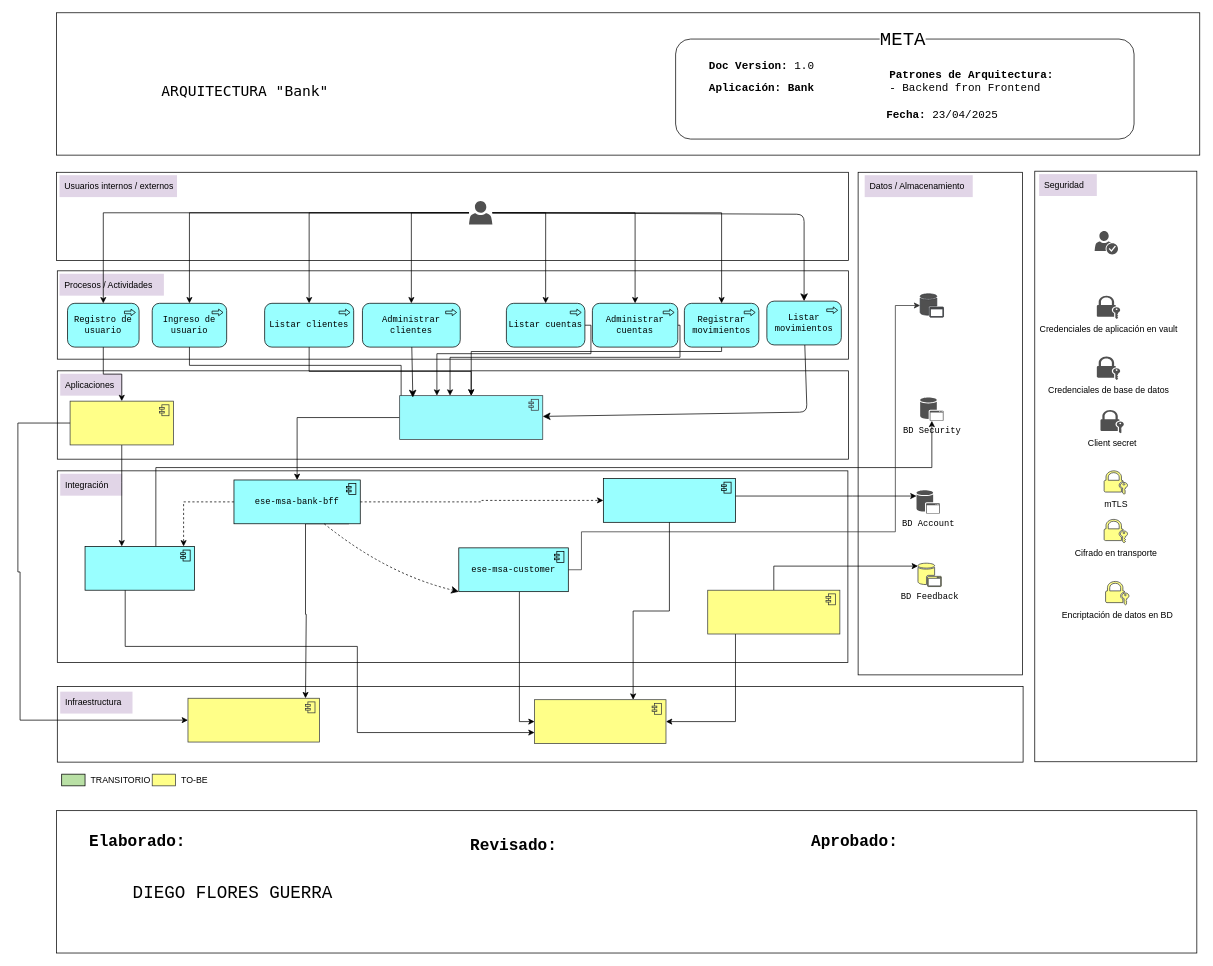
The diagram is 1213 pixels wide and 966 high, and some of its shapes have lost their labels. Each missing label, with the centre of its shape:
"BD Customer" goes at [931,305].
"Credenciales de usuario JWT" goes at [1106,242].
"dbz-msa-feedback" goes at [773,611].
"dbz-spa-register-login" goes at [121,422].
"ese-msa-account" goes at [669,500].
"ese-msa-security" goes at [139,568].
"ese-spa-bank" goes at [471,417].
"KAFKA" goes at [600,721].
"Recaptcha" goes at [253,720].
"Usuario" goes at [480,212].
